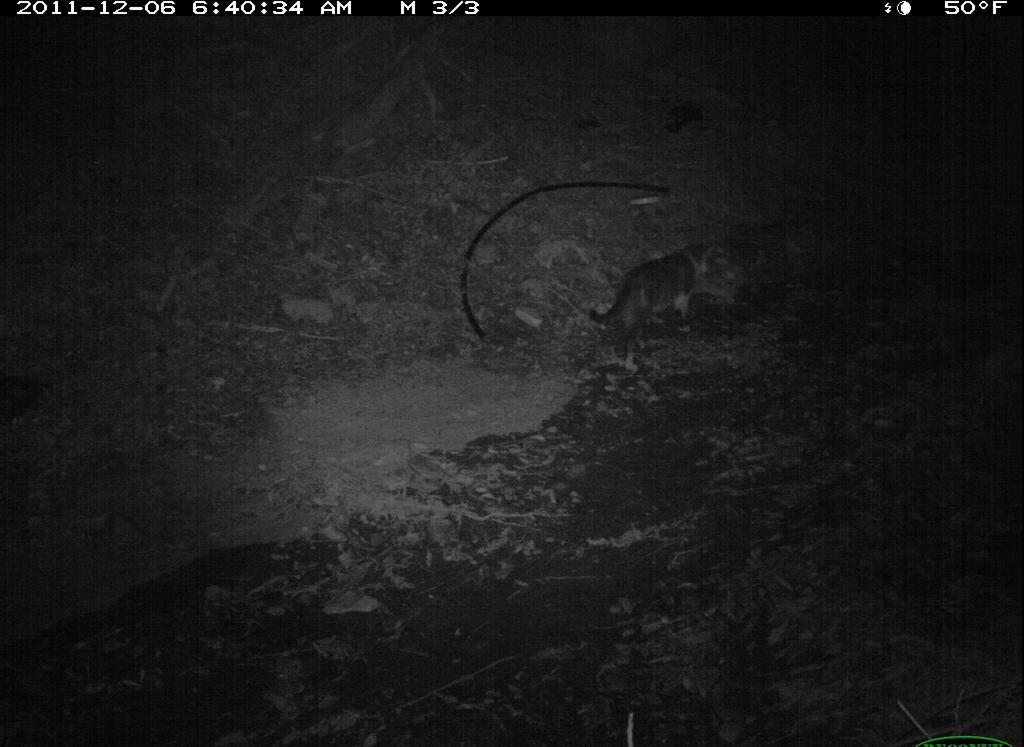cat: (578, 228, 733, 368)
